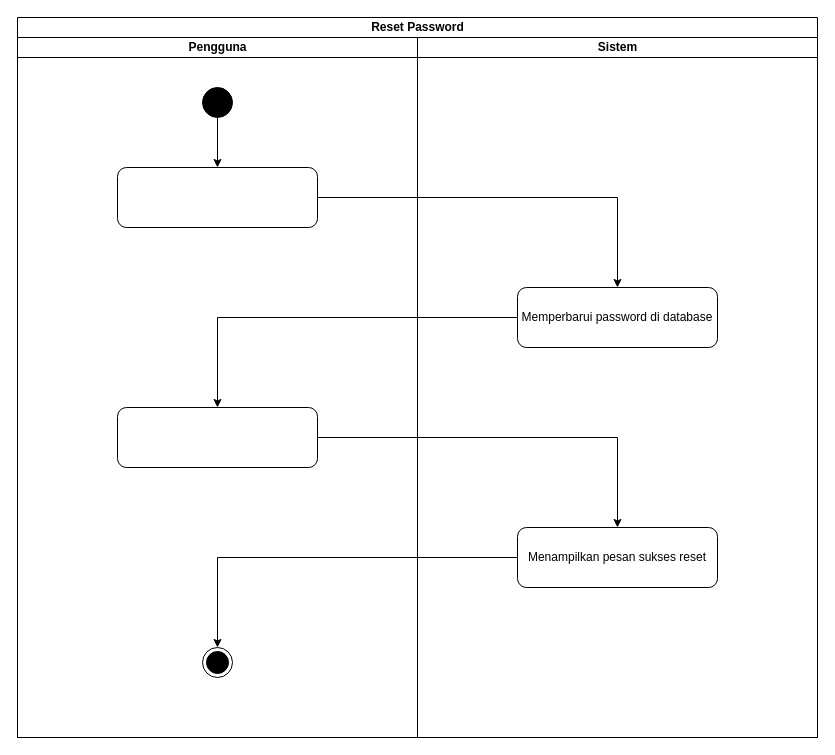
The diagram is 835 pixels wide and 755 high, and some of its shapes have lost their labels. Here are the shapes that lost their labels. From the top down, the centre of each, then its label:
At pixel 217 197: "Membuka link reset password".
At pixel 217 437: "Memasukkan password baru".
